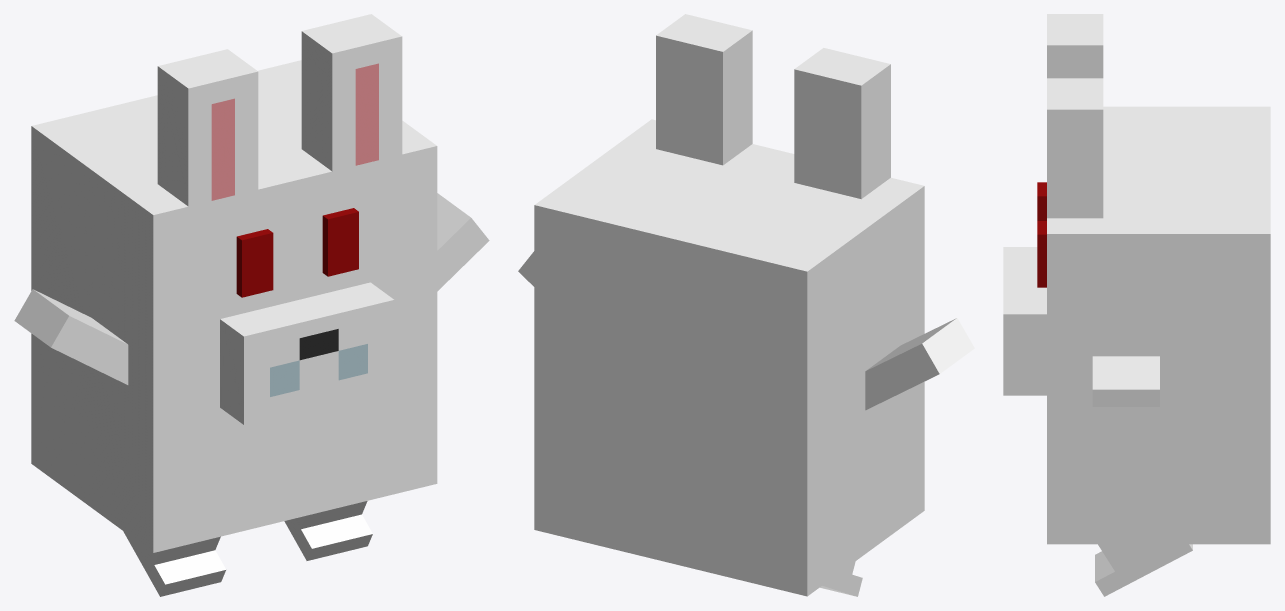
3 views of the same model, side by side, from view 1: azimuth 30°, elevation 25°; view 2: azimuth 150°, elevation 25°; view 3: azimuth 270°, elevation 25° (orthographic). The views are drawn at different scales.
Visible parts, largest first — view 1: Ch_25, Ch_25_Ear, Ch_25_Hand_L, Ch_25_Leg_L, Ch_25_Leg_R, Ch_25_Hand_R; view 2: Ch_25, Ch_25_Ear, Ch_25_Hand_L, Ch_25_Leg_L; view 3: Ch_25, Ch_25_Ear, Ch_25_Hand_R, Ch_25_Leg_R.
Part boxes in pixels (bbox=[...]): Ch_25: bbox=[31, 60, 437, 552]; Ch_25_Ear: bbox=[157, 14, 402, 206]; Ch_25_Hand_L: bbox=[14, 289, 128, 384]; Ch_25_Leg_L: bbox=[123, 531, 226, 596]; Ch_25_Leg_R: bbox=[284, 501, 372, 560]; Ch_25_Hand_R: bbox=[437, 193, 489, 291]; Ch_25: bbox=[534, 119, 924, 596]; Ch_25_Ear: bbox=[656, 14, 890, 199]; Ch_25_Hand_L: bbox=[865, 318, 974, 410]; Ch_25_Leg_L: bbox=[820, 561, 862, 596]; Ch_25: bbox=[1003, 106, 1270, 544]; Ch_25_Ear: bbox=[1047, 14, 1103, 218]; Ch_25_Hand_R: bbox=[1092, 356, 1159, 406]; Ch_25_Leg_R: bbox=[1095, 544, 1192, 596].
Size of the model in its own units: 10.41 by 12.07 by 5.99.
